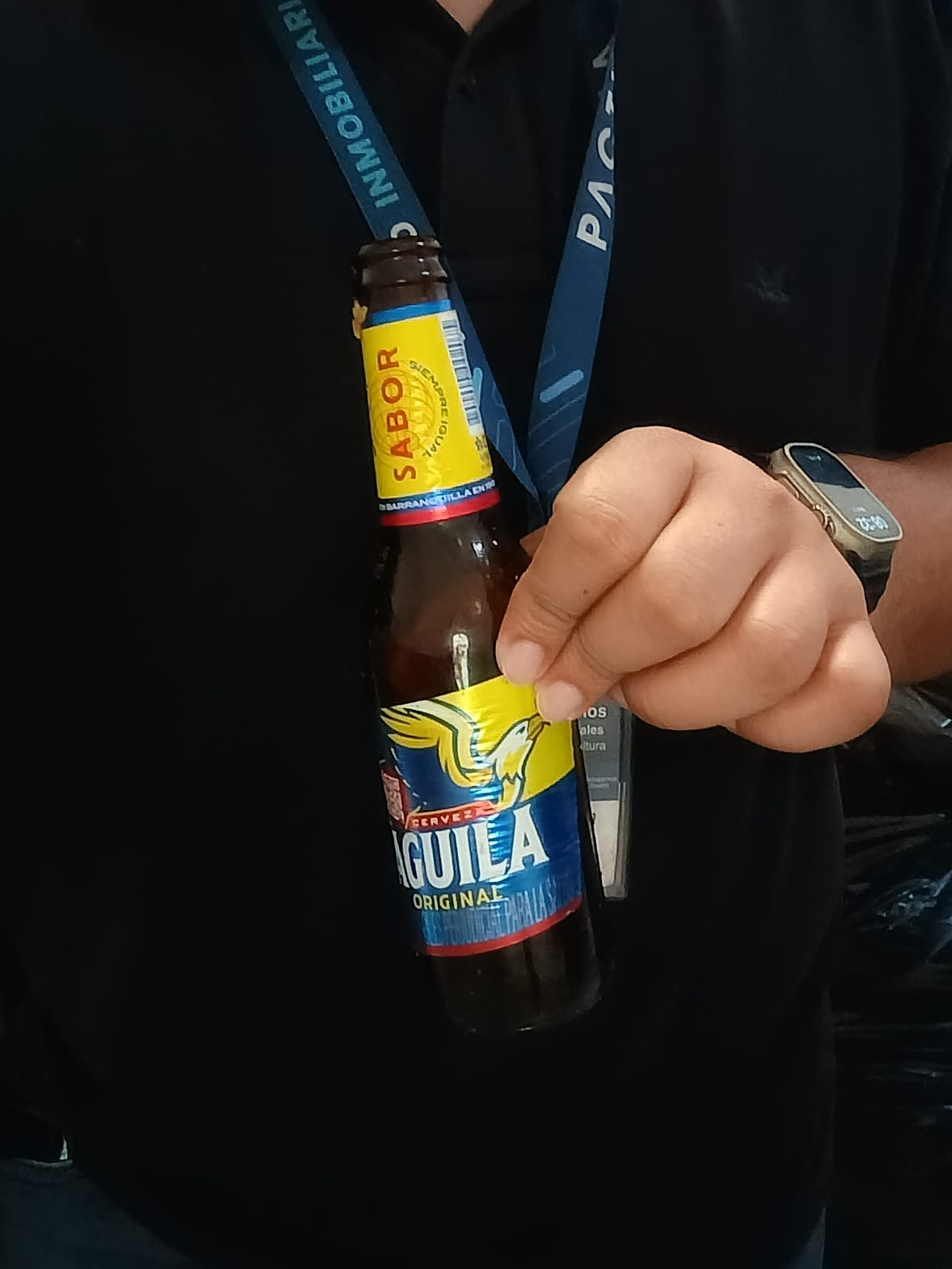Vidrio: (356, 237, 611, 1041)
